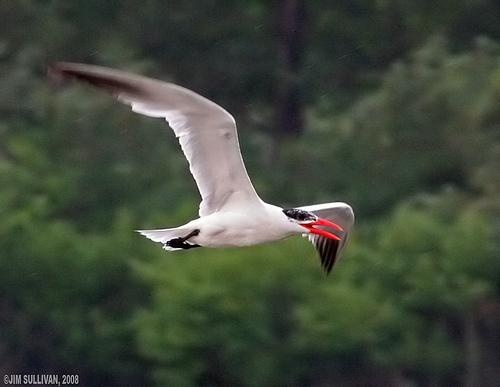bird: (49, 53, 352, 275)
